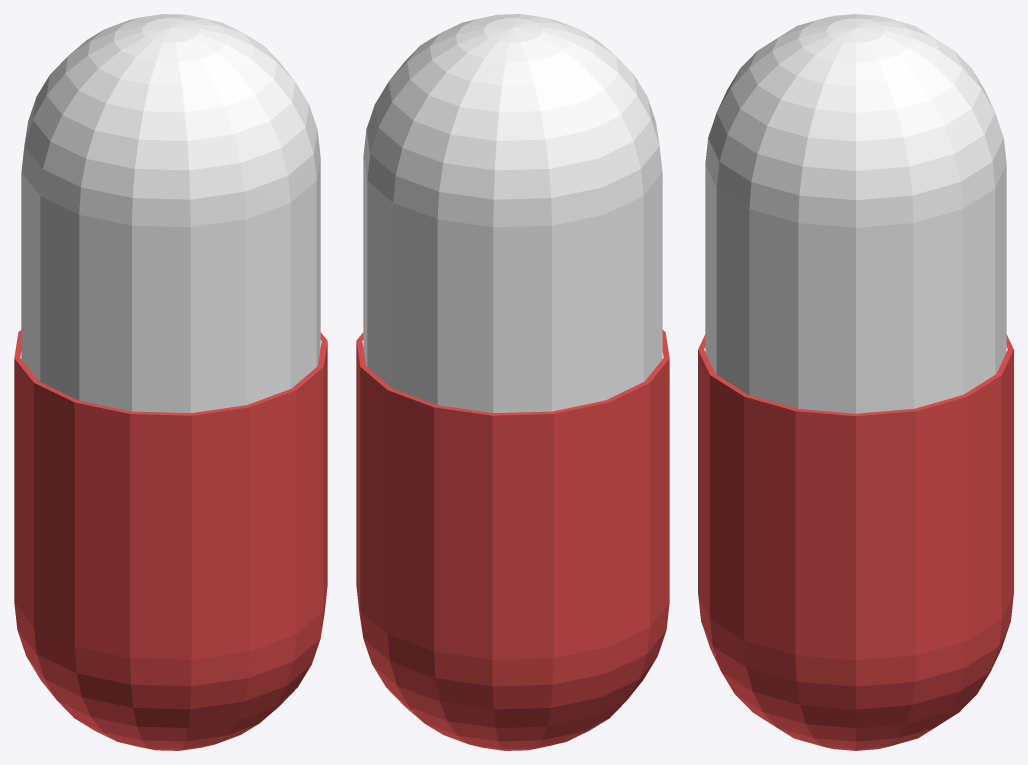
The model's file is pill-a.glb.
3 renders of one model, left to right at view 1: azimuth 30°, elevation 25°; view 2: azimuth 150°, elevation 25°; view 3: azimuth 270°, elevation 25°, orthographic.
Visible parts, largest first — view 1: Pill, Pill_2; view 2: Pill, Pill_2; view 3: Pill, Pill_2.
Part boxes in pixels (left/top/right/bottom): Pill: left=21, top=14, right=320, bottom=413; Pill_2: left=14, top=330, right=327, bottom=750; Pill: left=363, top=14, right=662, bottom=413; Pill_2: left=356, top=330, right=669, bottom=750; Pill: left=705, top=14, right=1006, bottom=413; Pill_2: left=698, top=334, right=1013, bottom=750.
Size of the model in its own units: 109 by 270 by 109.
